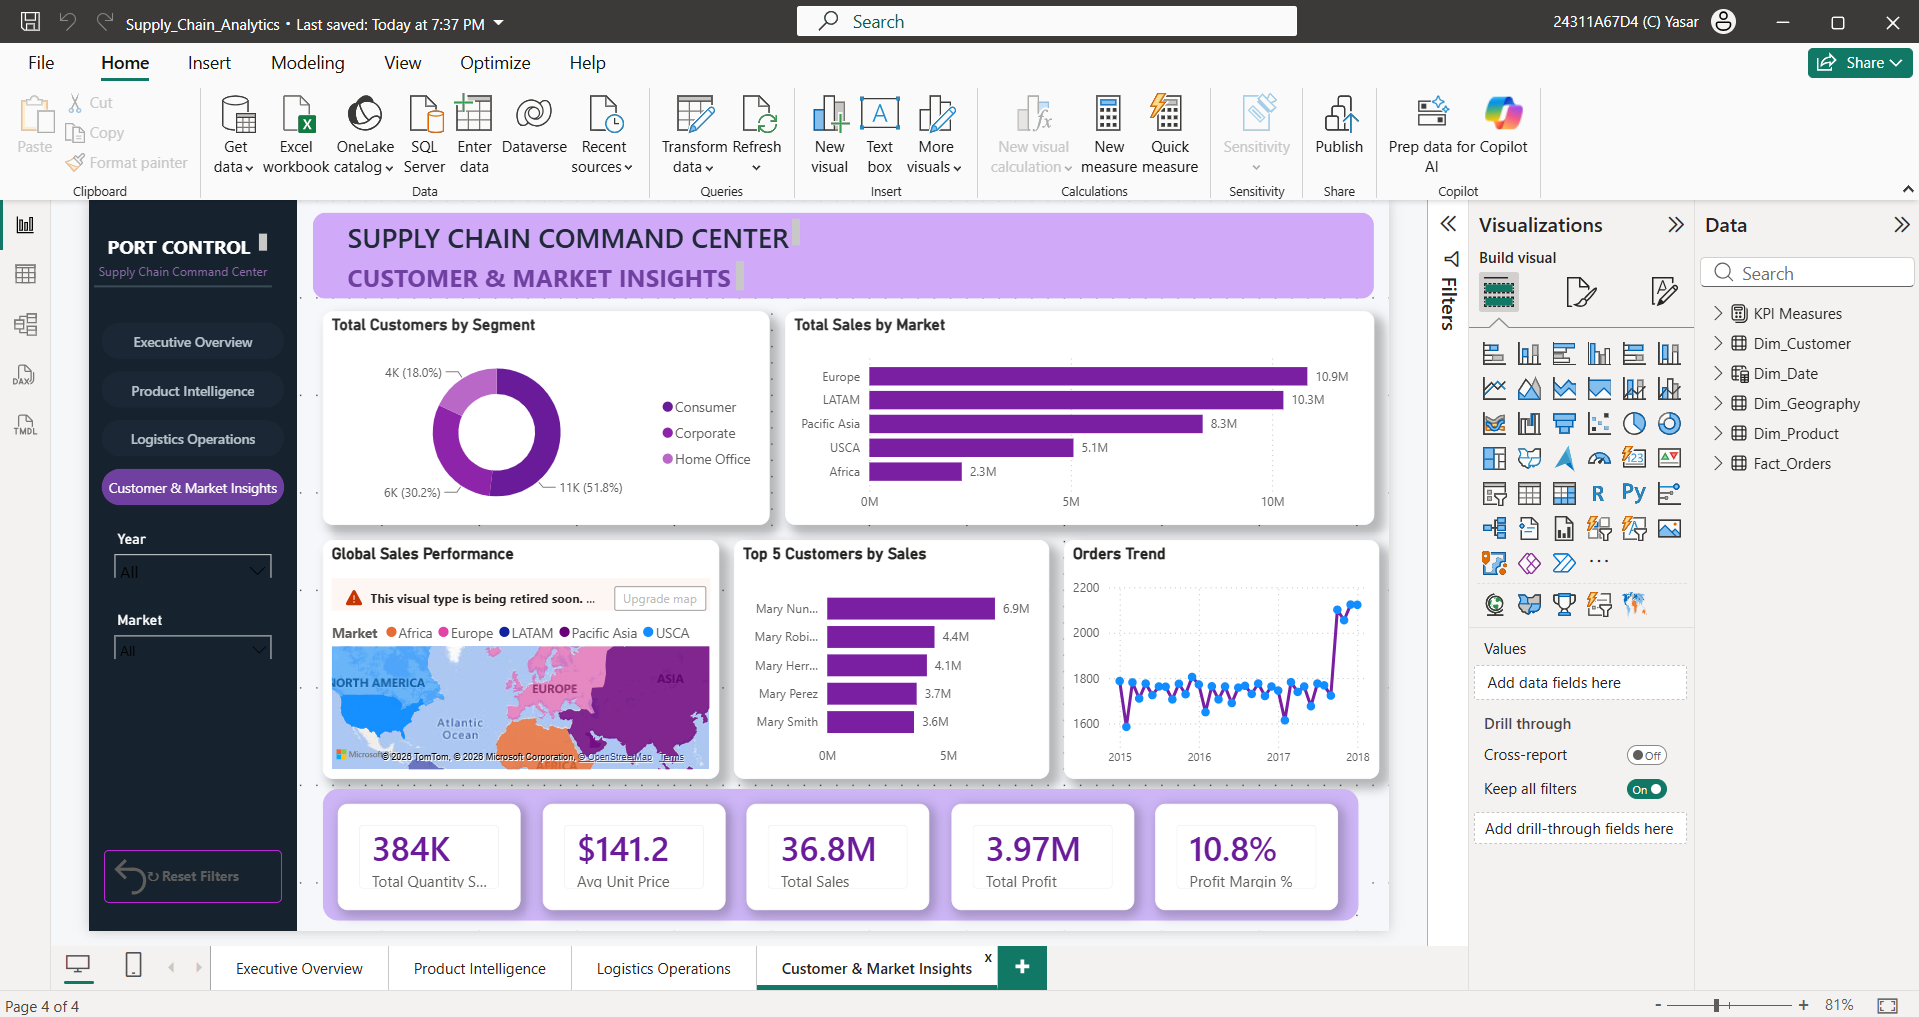

The page's visual inventory and layout, read from the dashboard file:
{"tool":"powerbi","page":{"name":"Customer & Market Insights","canvas":[1280,720],"ordinal":3},"visuals":[{"type":"shape","box":[0,0,205,720],"z":0},{"type":"textbox","box":[5,28,175,30],"z":1000},{"type":"textbox","box":[0,55,185,28],"z":2000},{"type":"shape","box":[5,78,175,15],"z":3000},{"type":"pageNavigator","box":[12,120,180,180],"z":4000},{"type":"shape","box":[220,12,1045,85],"z":5000},{"type":"textbox","box":[245,13,460,40],"z":6000},{"type":"textbox","box":[245,55,405,40],"z":7000},{"type":"donutChart","title":"Total Customers by Segment","fields":{"Category":["Fact_Orders.Segment"],"Y":["KPI Measures.Total Customers"]},"box":[230,110,440,210],"z":11000},{"type":"clusteredBarChart","title":"Total Sales by Market","fields":{"Category":["Fact_Orders.Market"],"Y":["KPI Measures.Total Sales"]},"box":[685,110,580,210],"z":12000},{"type":"filledMap","title":"Global Sales Performance","fields":{"Category":["Dim_Geography.Order Region"],"Series":["Dim_Geography.Market"]},"box":[230,335,390,235],"z":13000},{"type":"clusteredBarChart","title":"Top 5 Customers by Sales","fields":{"Category":["Dim_Customer.Customer Name"],"Y":["KPI Measures.Total Sales"]},"box":[635,335,310,235],"z":14000},{"type":"lineChart","title":"Orders Trend","fields":{"Category":["Dim_Date.Date.Variation.Date Hierarchy.Year","Dim_Date.Date.Variation.Date Hierarchy.Month"],"Y":["KPI Measures.Total Orders"]},"box":[960,335,310,235],"z":15000},{"type":"shape","box":[230,580,1020,130],"z":16000},{"type":"cardVisual","fields":{"Data":["KPI Measures.Total Quantity Sold"]},"box":[245,595,180,105],"z":17000},{"type":"cardVisual","fields":{"Data":["KPI Measures.Profit Margin %"]},"box":[1050,595,180,105],"z":18000},{"type":"cardVisual","fields":{"Data":["KPI Measures.Average Unit Price"]},"box":[446.2,595,180,105],"z":19000},{"type":"cardVisual","fields":{"Data":["KPI Measures.Total Sales"]},"box":[647.5,595,180,105],"z":20000},{"type":"cardVisual","fields":{"Data":["KPI Measures.Total Profit"]},"box":[848.8,595,180,105],"z":21000},{"type":"slicer","fields":{"Values":["Dim_Date.Year"]},"box":[15,320,175,52],"z":21001},{"type":"slicer","fields":{"Values":["Dim_Geography.Market"]},"box":[15,400,175,52],"z":21002},{"type":"actionButton","box":[15,640,175,52],"z":21005}]}

Visuals, with their boxes on the page's 1280x720 design canvas (x1, y1, x2, y2). These are canvas units, not pixel positions in the 1919x1017 screenshot, which may show the page scaled, cropped or inside an application window:
shape: [x1=0, y1=0, x2=205, y2=720]
textbox: [x1=5, y1=28, x2=180, y2=58]
textbox: [x1=0, y1=55, x2=185, y2=83]
shape: [x1=5, y1=78, x2=180, y2=93]
pageNavigator: [x1=12, y1=120, x2=192, y2=300]
shape: [x1=220, y1=12, x2=1265, y2=97]
textbox: [x1=245, y1=13, x2=705, y2=53]
textbox: [x1=245, y1=55, x2=650, y2=95]
"Total Customers by Segment" donutChart: [x1=230, y1=110, x2=670, y2=320]
"Total Sales by Market" clusteredBarChart: [x1=685, y1=110, x2=1265, y2=320]
"Global Sales Performance" filledMap: [x1=230, y1=335, x2=620, y2=570]
"Top 5 Customers by Sales" clusteredBarChart: [x1=635, y1=335, x2=945, y2=570]
"Orders Trend" lineChart: [x1=960, y1=335, x2=1270, y2=570]
shape: [x1=230, y1=580, x2=1250, y2=710]
cardVisual - KPI Measures.Total Quantity Sold: [x1=245, y1=595, x2=425, y2=700]
cardVisual - KPI Measures.Profit Margin %: [x1=1050, y1=595, x2=1230, y2=700]
cardVisual - KPI Measures.Average Unit Price: [x1=446, y1=595, x2=626, y2=700]
cardVisual - KPI Measures.Total Sales: [x1=648, y1=595, x2=828, y2=700]
cardVisual - KPI Measures.Total Profit: [x1=849, y1=595, x2=1029, y2=700]
slicer - Dim_Date.Year: [x1=15, y1=320, x2=190, y2=372]
slicer - Dim_Geography.Market: [x1=15, y1=400, x2=190, y2=452]
actionButton: [x1=15, y1=640, x2=190, y2=692]
